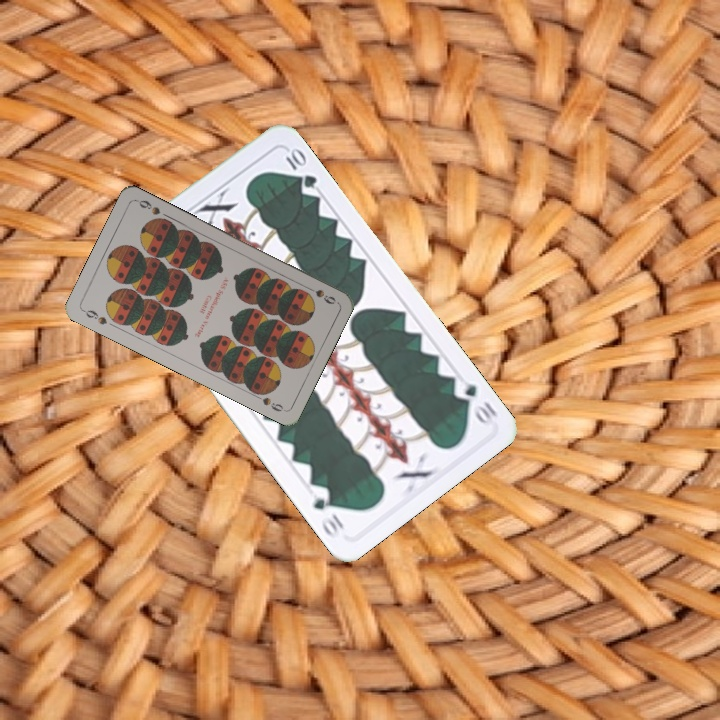G10: (449, 379, 500, 427)
S9: (301, 282, 338, 307), (79, 306, 110, 327)
